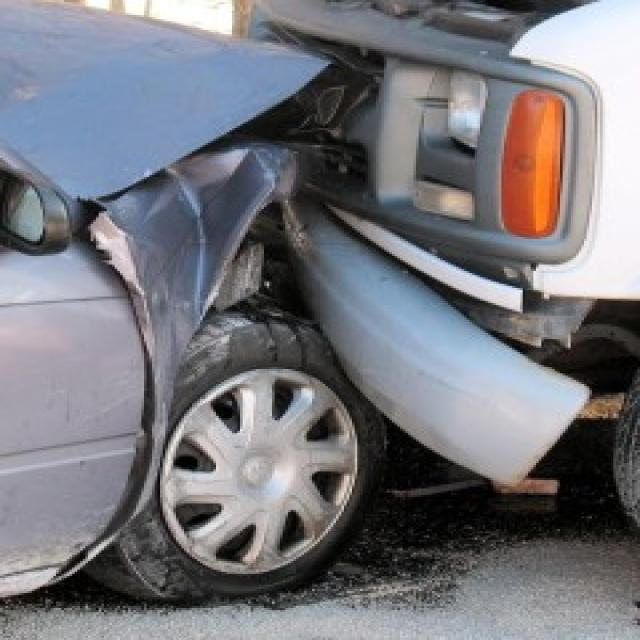Accident: (2, 0, 640, 609)
